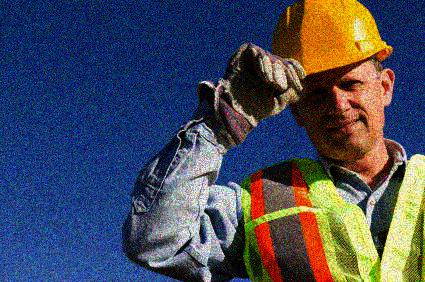helmet: (268, 1, 395, 161)
